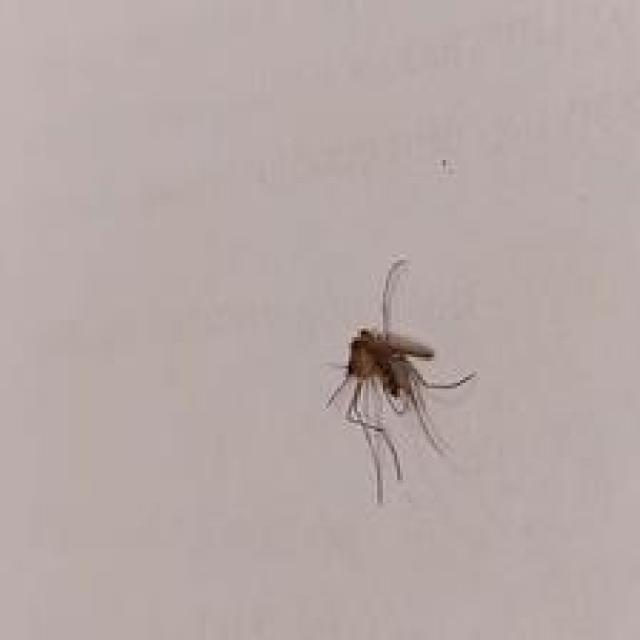Culex: (323, 256, 477, 504)
